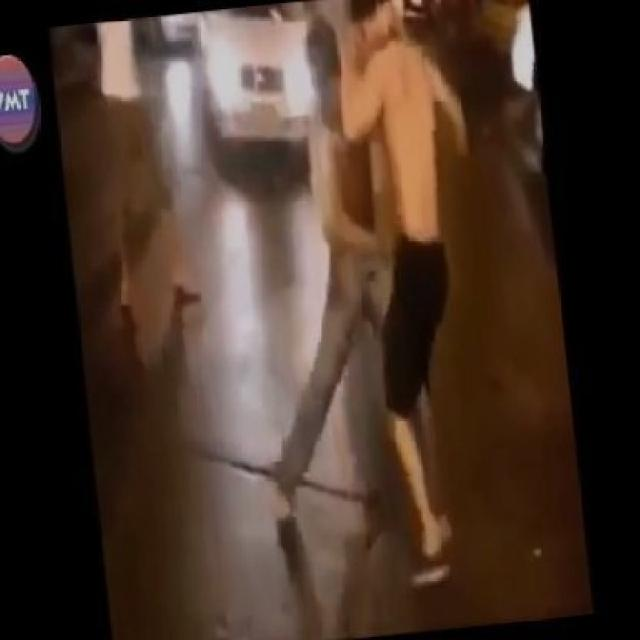fight: (256, 0, 477, 579)
